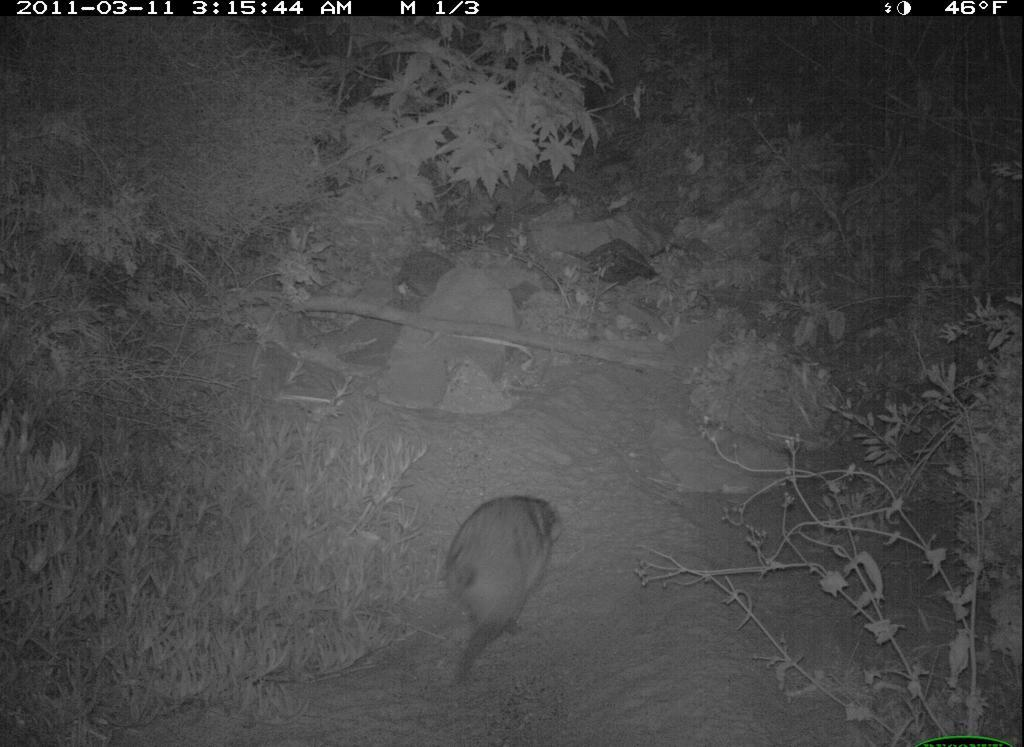raccoon: (441, 493, 564, 685)
